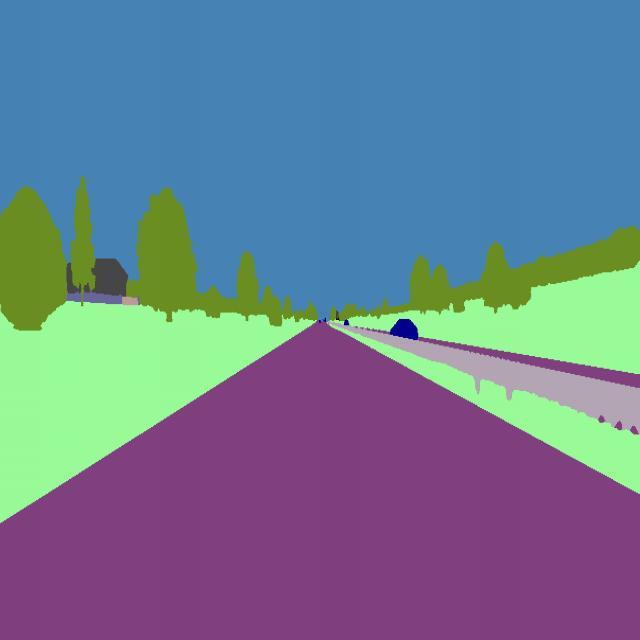safe: (387, 316, 427, 345), (342, 320, 352, 328)
